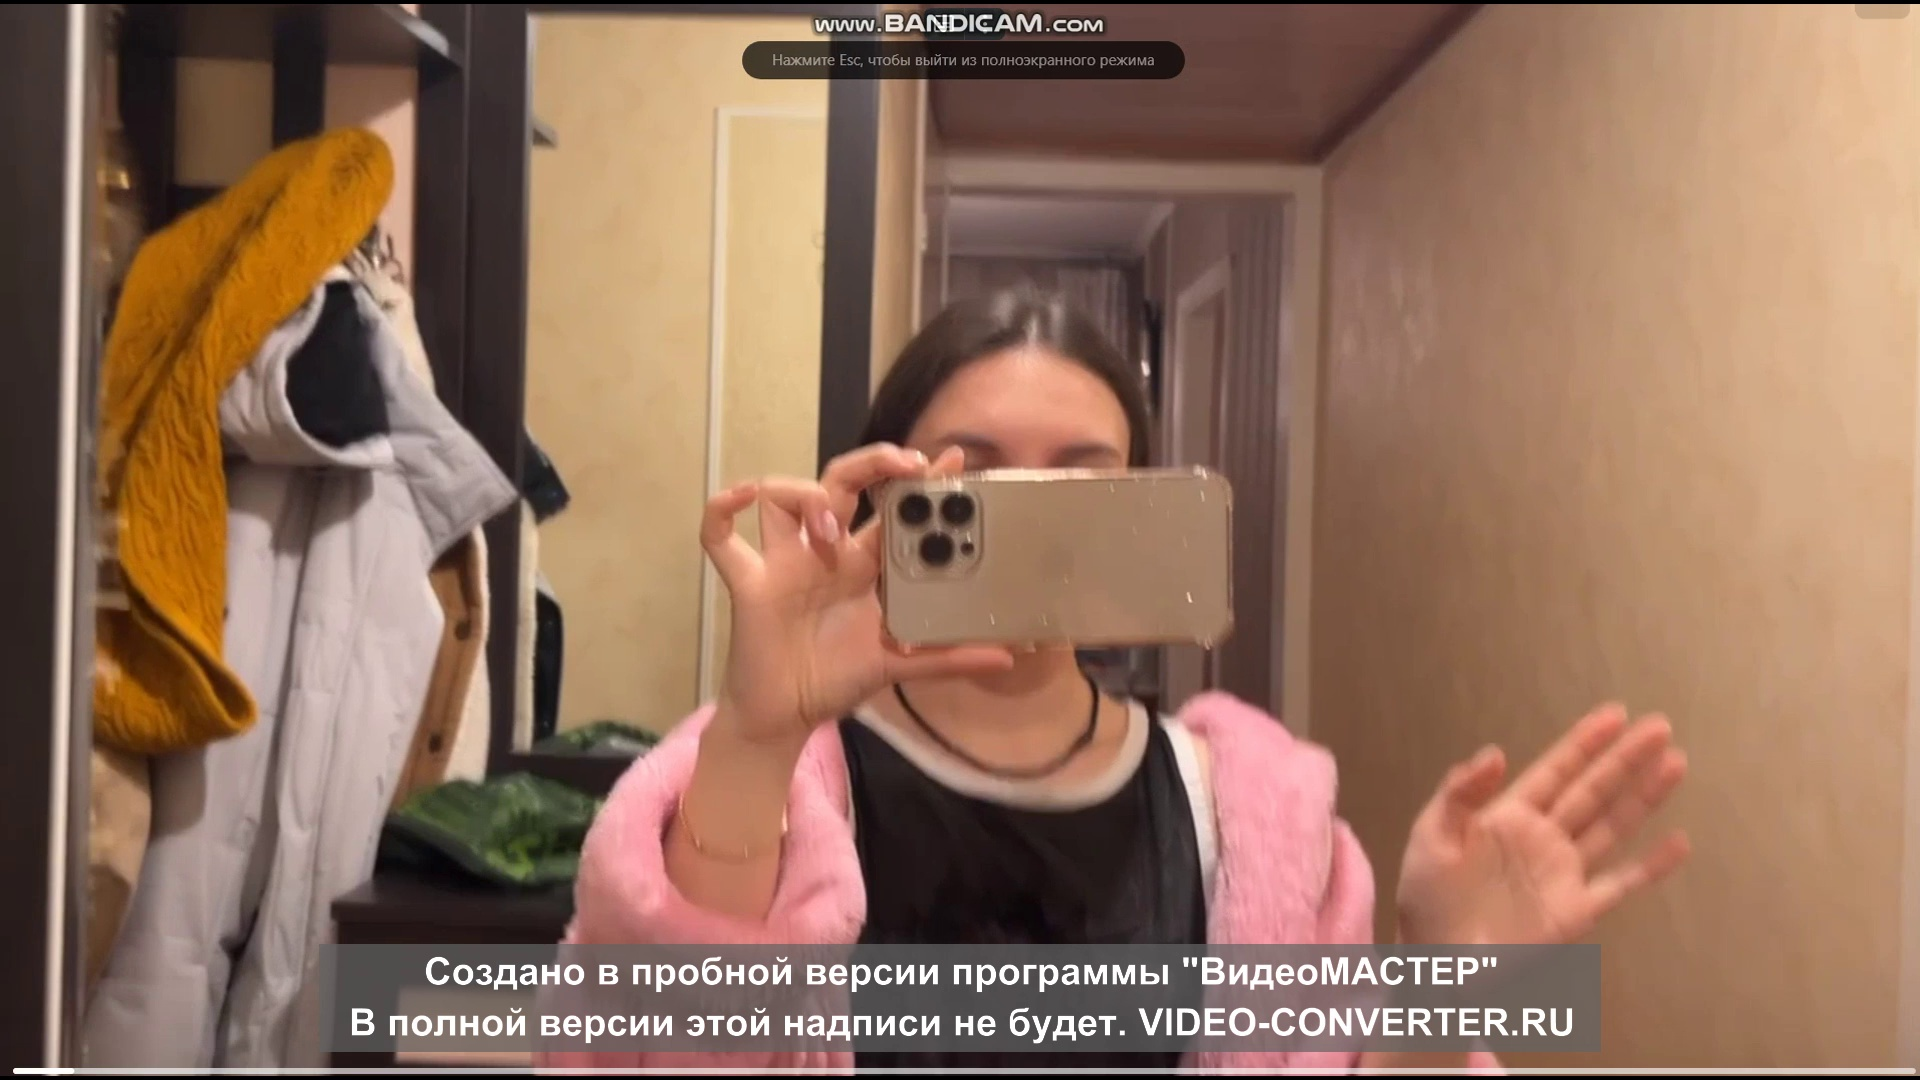Ладонь: (1391, 696, 1691, 939)
